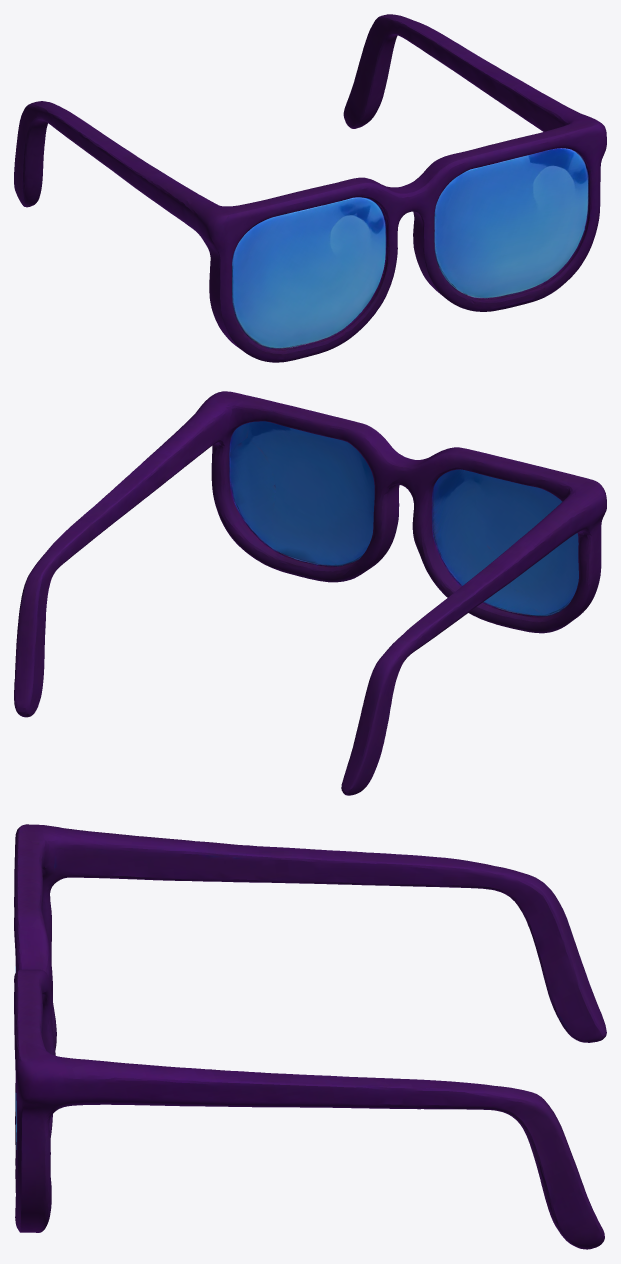
File: glasses.glb
3 renders of one model, top to bottom at view 1: azimuth 30°, elevation 25°; view 2: azimuth 150°, elevation 25°; view 3: azimuth 270°, elevation 25°, orthographic. The views are drawn at different scales.
Parts seen in each view (by area): view 1: model; view 2: model; view 3: model.
Boxes of the visible parts, x1,y1,x2,y2 form: model: (14,14,606,362); model: (14,391,606,795); model: (14,824,606,1249).
Size of the model in its own units: 0.9949 by 0.3854 by 1.
1 material, 1 textured.
